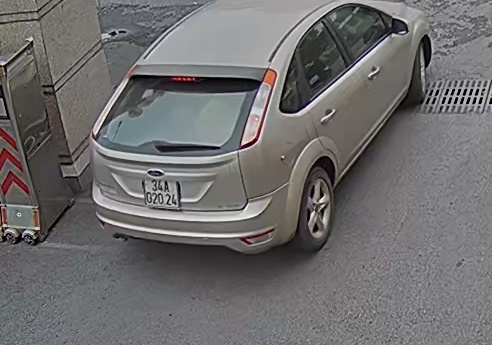vehicle plate: (143, 175, 183, 213)
